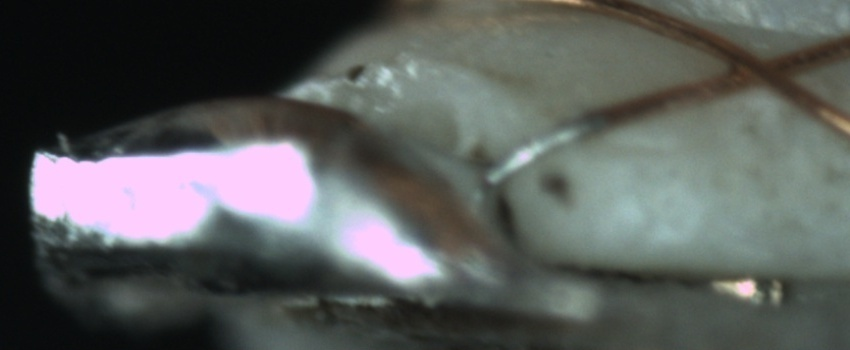CL: (715, 36, 816, 102)
DL: (569, 126, 705, 177)
TS: (487, 118, 611, 183)
